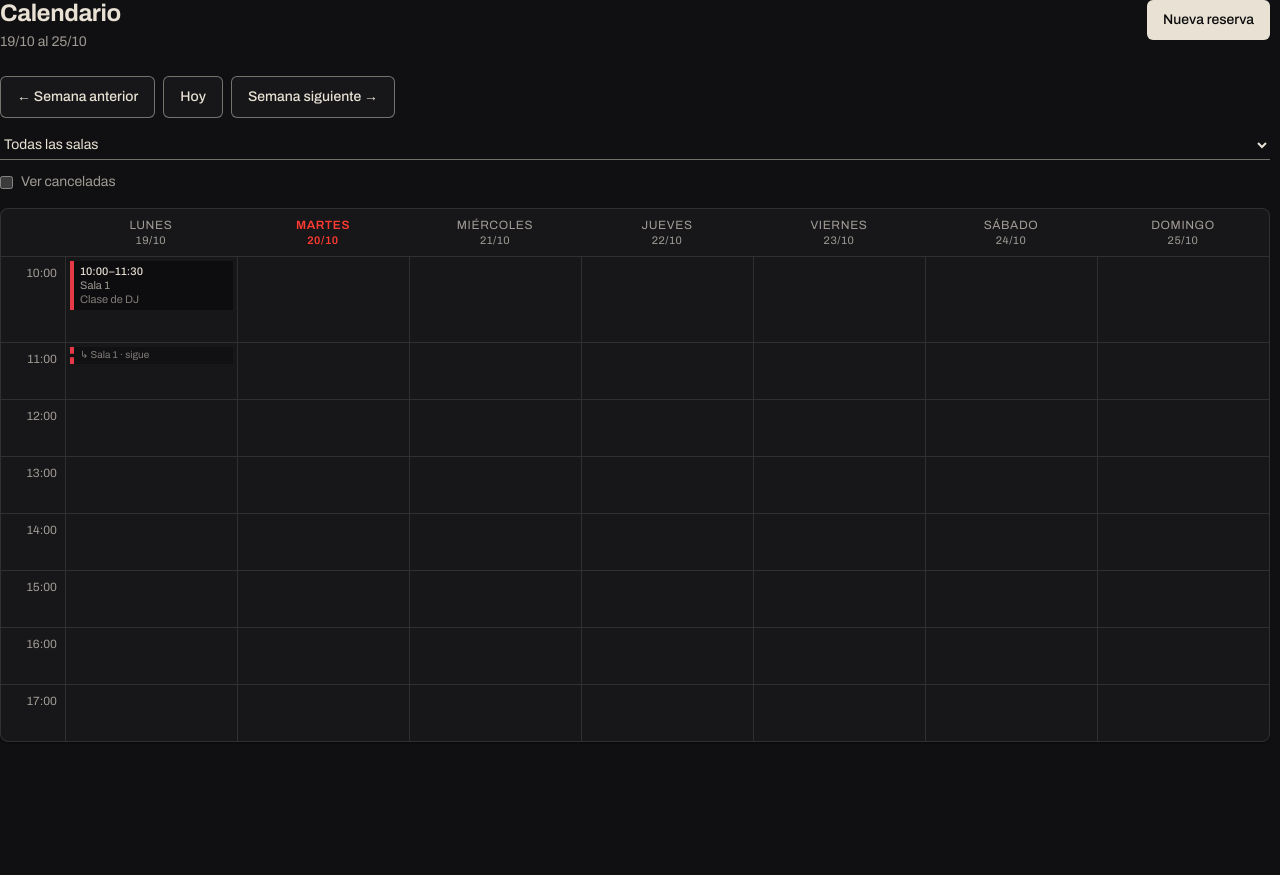
la grilla › al elegir una reserva muestra sus participantes
The image size is (1280, 875).
Click the text "10:00–11:30".
click(112, 271)  # box [80,265,143,277]
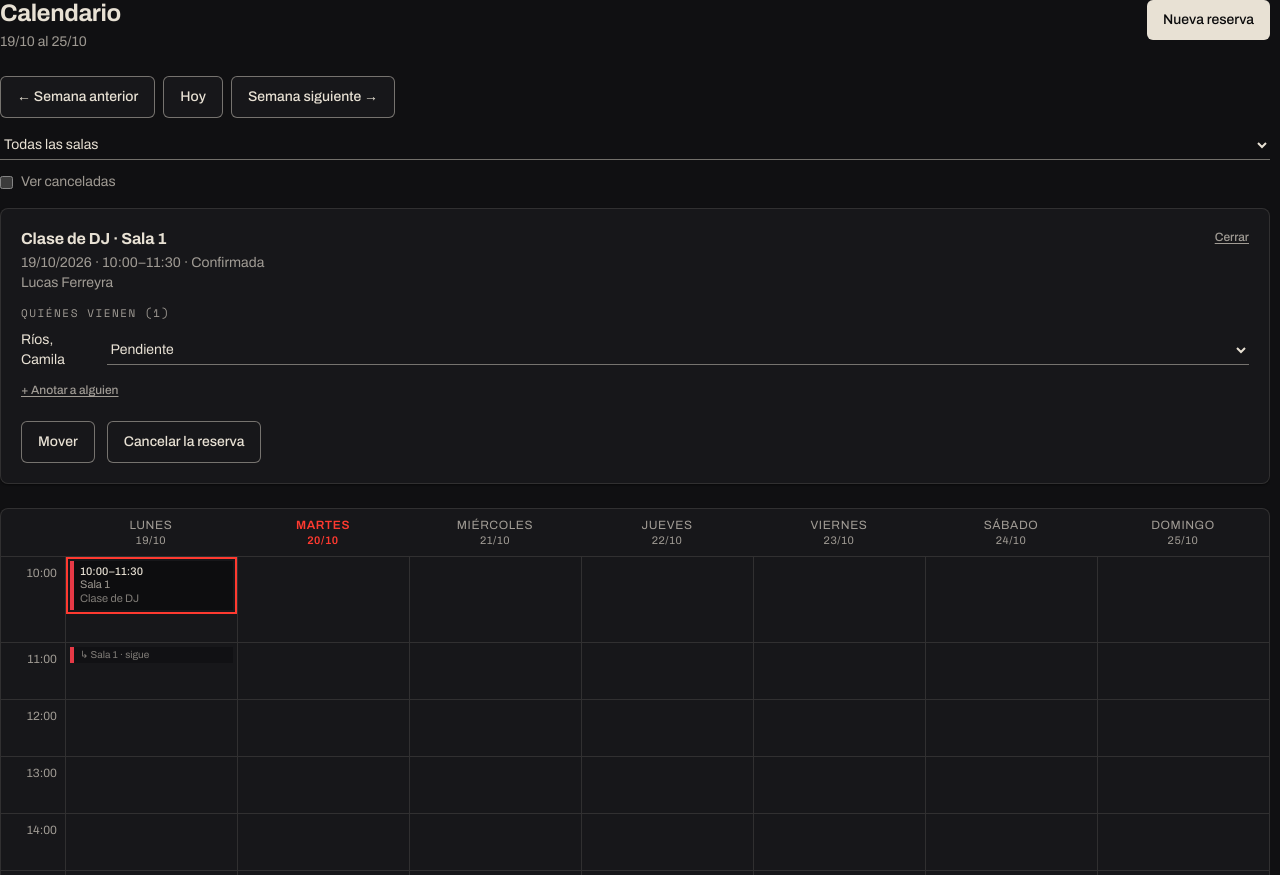
Check: the text "Ríos, Camila" is shown, box [21,332,65,367]
Check: the heading "Quiénes vienen (1)" is shown, box [21,305,170,321]
